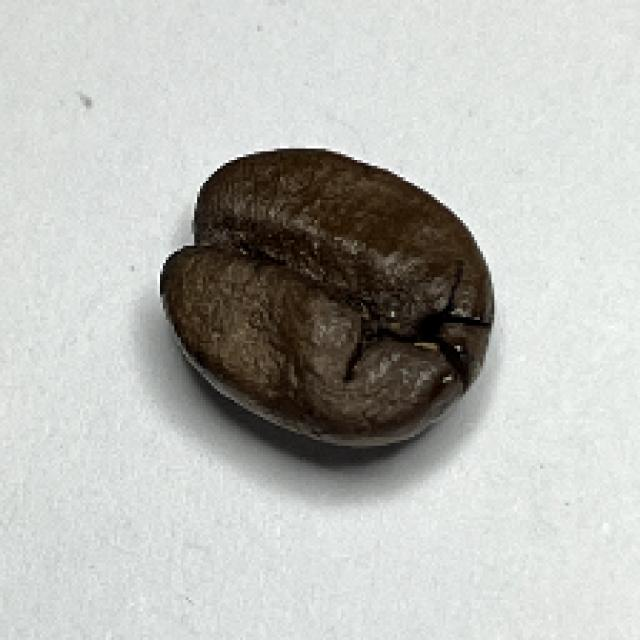bean: (155, 144, 500, 450)
